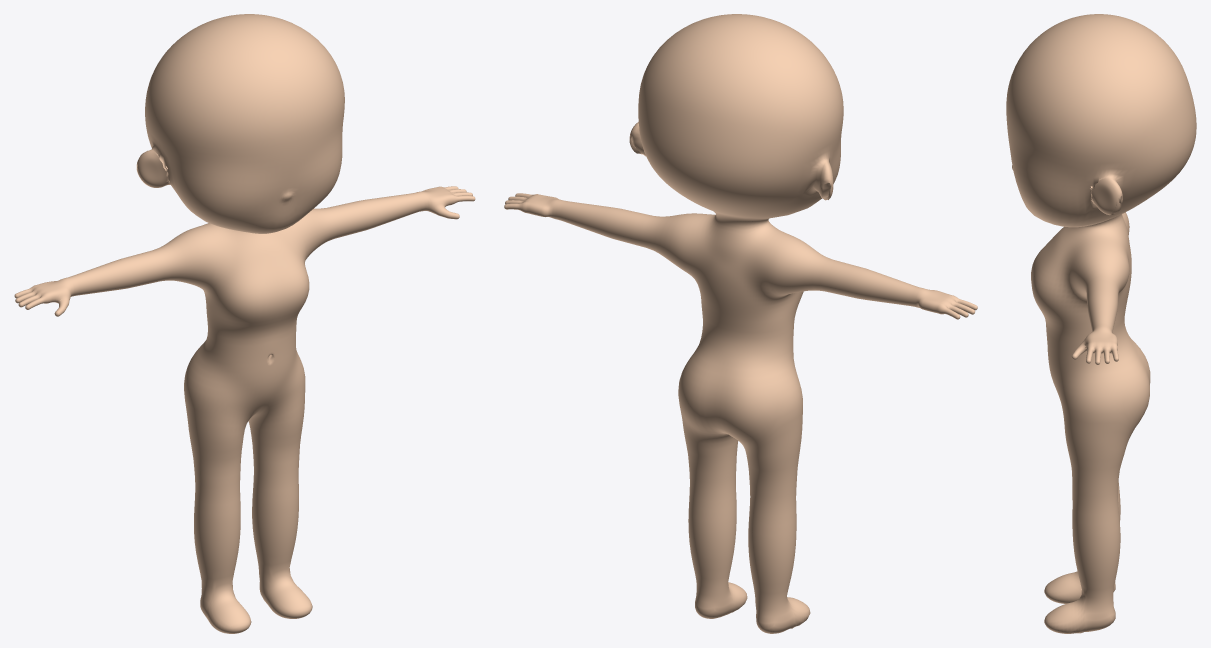
The model's file is female_small_mesh_only.fbx.
3 views of the same model, side by side, from view 1: azimuth 30°, elevation 25°; view 2: azimuth 150°, elevation 25°; view 3: azimuth 270°, elevation 25° (orthographic). The views are drawn at different scales.
Visible parts, largest first — view 1: Body; view 2: Body; view 3: Body.
Boxes of the visible parts, box(x1,y1,x2,y2) form: Body: box(14, 14, 475, 633); Body: box(504, 14, 977, 633); Body: box(1006, 14, 1196, 633).
Bounding box in the file's own units: 120 × 148 × 43.35.
